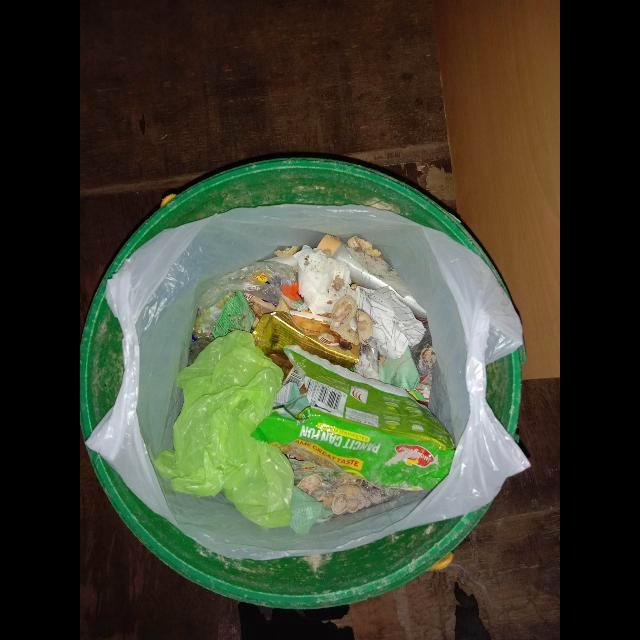food_wrapper: (252, 345, 456, 492), (252, 311, 360, 381)
paper: (355, 286, 426, 359), (292, 245, 350, 315)
plastic_bag: (154, 330, 294, 530)
